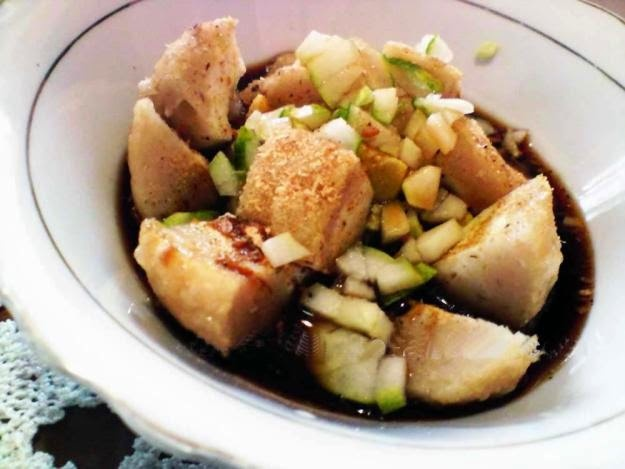pempek: (126, 17, 562, 412)
